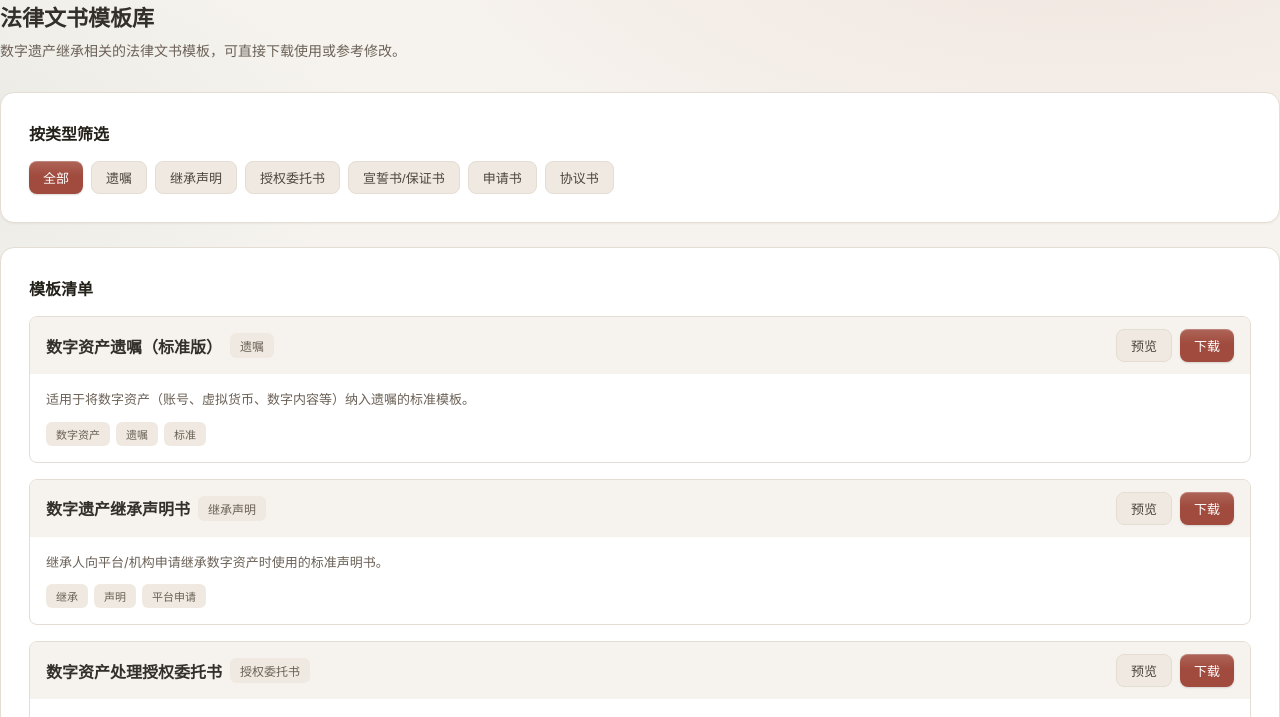
Test: 类型筛选 › 筛选「遗嘱」后只剩遗嘱类模板
This screenshot has width=1280, height=717.
Click the button "遗嘱". click: coordinates (119, 178)
box: x1=91 y1=161 x2=147 y2=194
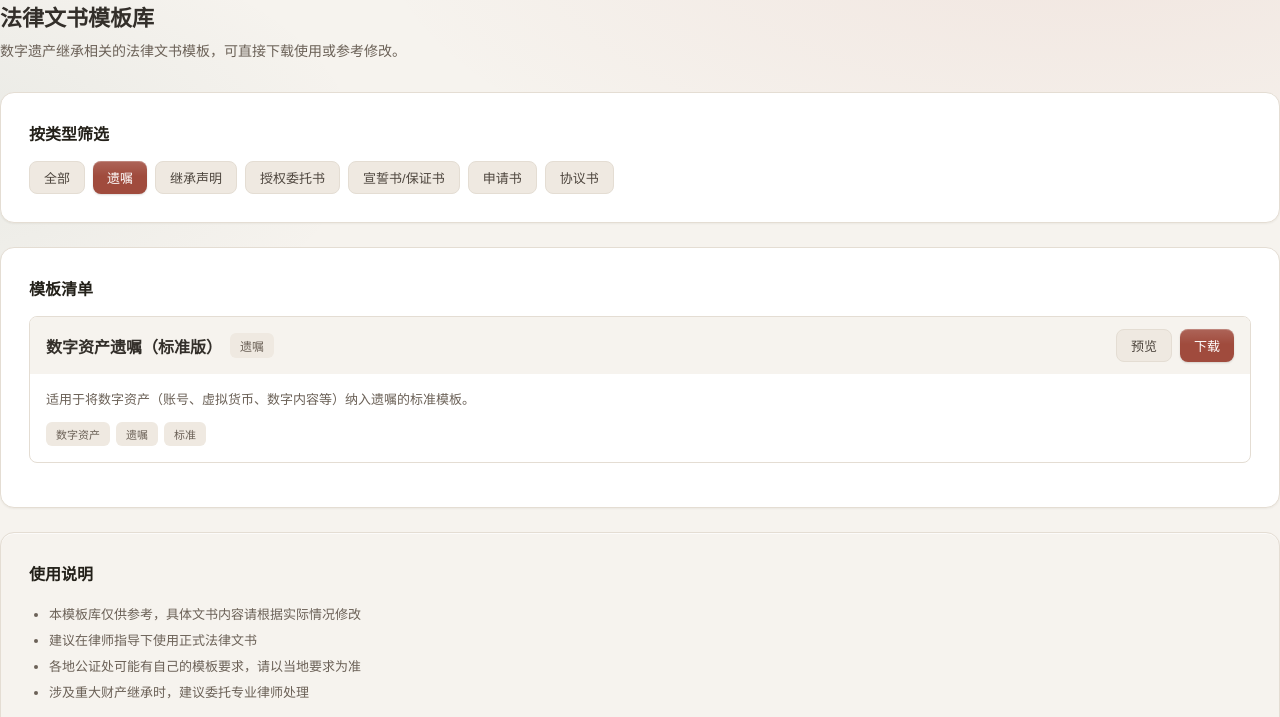
Expected: the text "数字资产遗嘱" is shown, x1=46 y1=336 x2=222 y2=356
Expected: the text "数字遗产继承声明书" is gone
